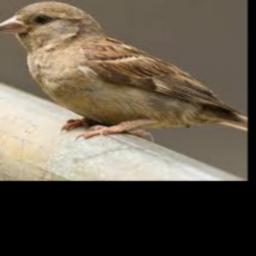Sparrow: (0, 0, 248, 140)
